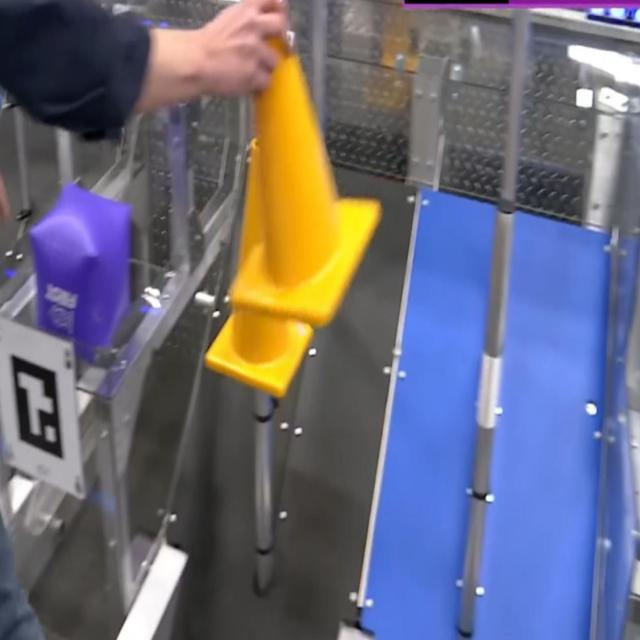frc_cone: (226, 3, 382, 329), (203, 137, 314, 400)
frc_cube: (29, 184, 133, 364)
